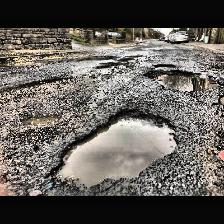pothole: (47, 107, 178, 189), (142, 69, 220, 91), (18, 113, 62, 127), (152, 63, 176, 69), (218, 94, 224, 106)
